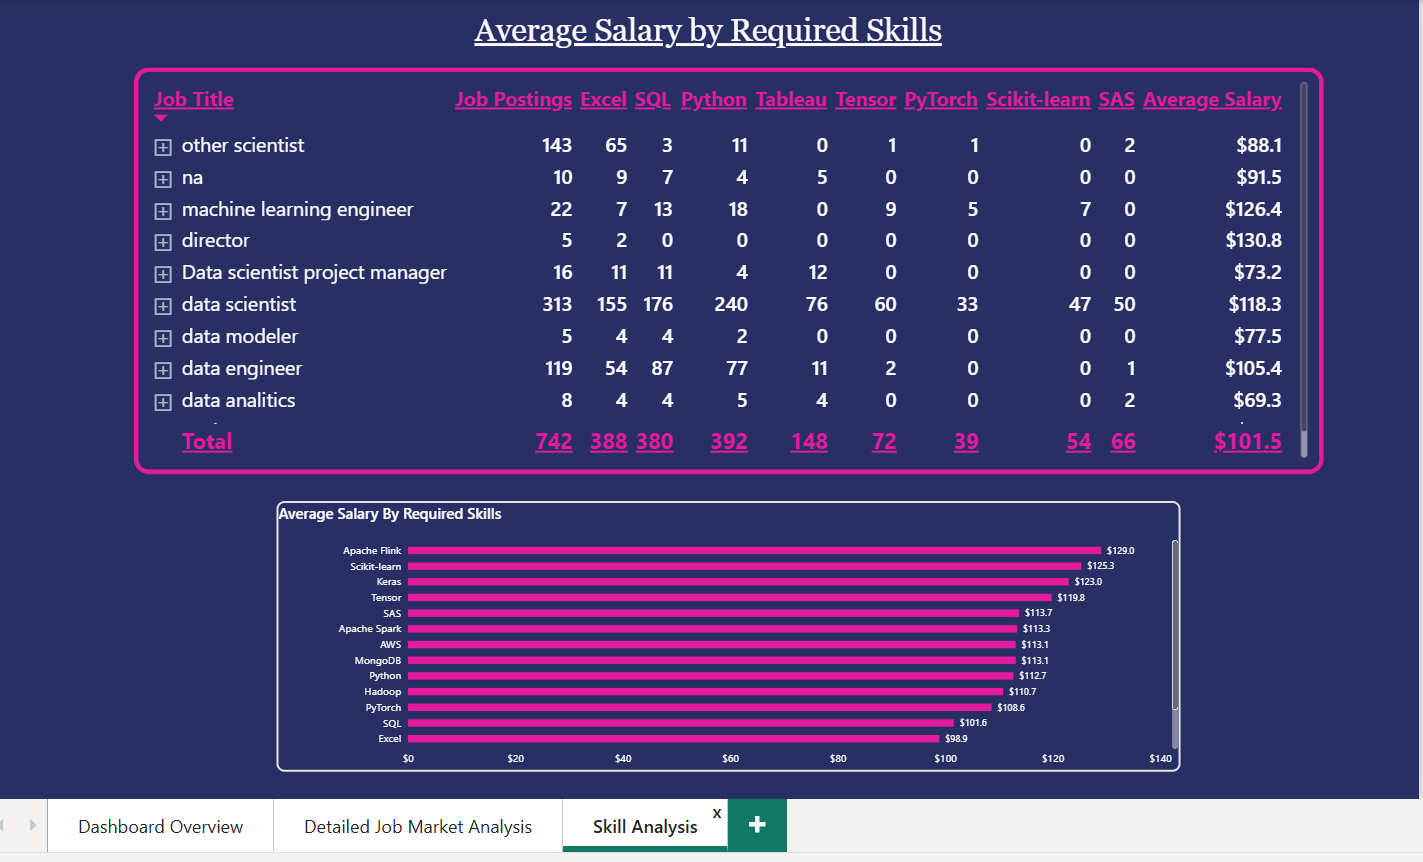

What the dashboard file says about the page in this screenshot:
{"tool":"powerbi","page":{"name":"Skill Analysis","canvas":[1920,1080],"ordinal":2},"visuals":[{"type":"pivotTable","fields":{"Rows":["project_job_market_analysis Market.Simplified Job Title","project_job_market_analysis Market.Company_Name"],"Values":["CountNonNull(project_job_market_analysis Market.ID)","Sum(project_job_market_analysis Market.Excel)","Sum(project_job_market_analysis Market.SQL)","Sum(project_job_market_analysis Market.Python)","Sum(project_job_market_analysis Market.Tableau)","Sum(project_job_market_analysis Market.Tensor)","Sum(project_job_market_analysis Market.PyTorch)","Sum(project_job_market_analysis Market.Scikit-learn)","Sum(project_job_market_analysis Market.SAS)","Avg(project_job_market_analysis Market.Avg_SalaryK)"]},"box":[181.7,90.9,1608.1,549.7],"z":0},{"type":"textbox","box":[642.8,15.9,685.9,75],"z":1000},{"type":"clusteredBarChart","title":"Average Salary By Required Skills","fields":{"Category":["Skill Analysis.Skill"],"Y":["Avg(project_job_market_analysis Market.Avg_SalaryK)"]},"box":[374.8,676.8,1222,365.7],"z":1001}]}

Visuals, with their boxes on the page's 1920x1080 design canvas (x1, y1, x2, y2). These are canvas units, not pixel positions in the 1423x862 screenshot, which may show the page scaled, cropped or inside an application window:
pivotTable - project_job_market_analysis Market.Simplified Job Title x project_job_market_analysis Market.Company_Name: 182/91/1790/641
textbox: 643/16/1329/91
"Average Salary By Required Skills" clusteredBarChart: 375/677/1597/1042
